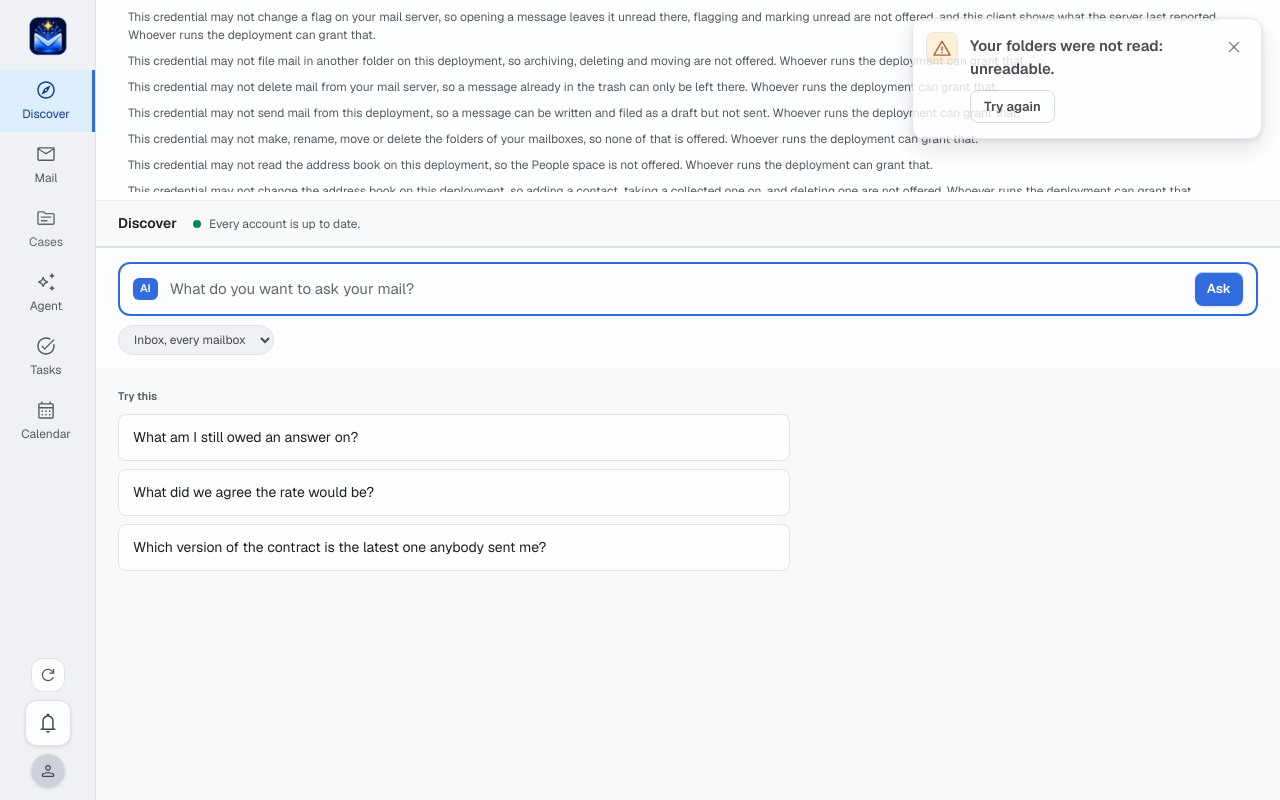
Scenario: App › draws the field under an open message only where the deployment answers that it drafts: true
This screenshot has width=1280, height=800.
Expected: the heading "Every account is up to date." is shown, top-left (193, 214), bottom-right (360, 232)
Click the link "Mail" at (46, 164), box top-left (34, 143), bottom-right (57, 186)
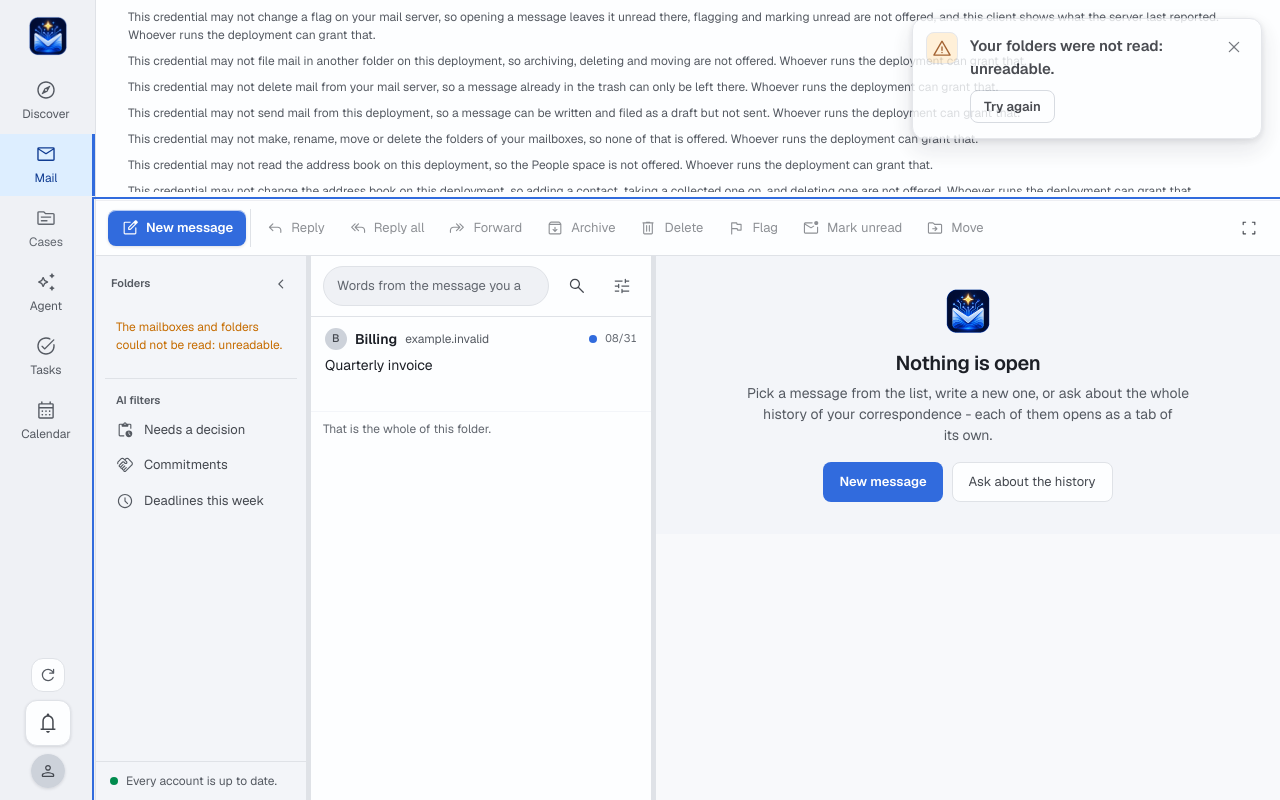
Expected: the element named "Mail" is shown
Press the mouse on the option "B Billing example.invalid 08/31 Quarterly invoice" at (481, 364), box top-left (311, 316), bottom-right (651, 412)
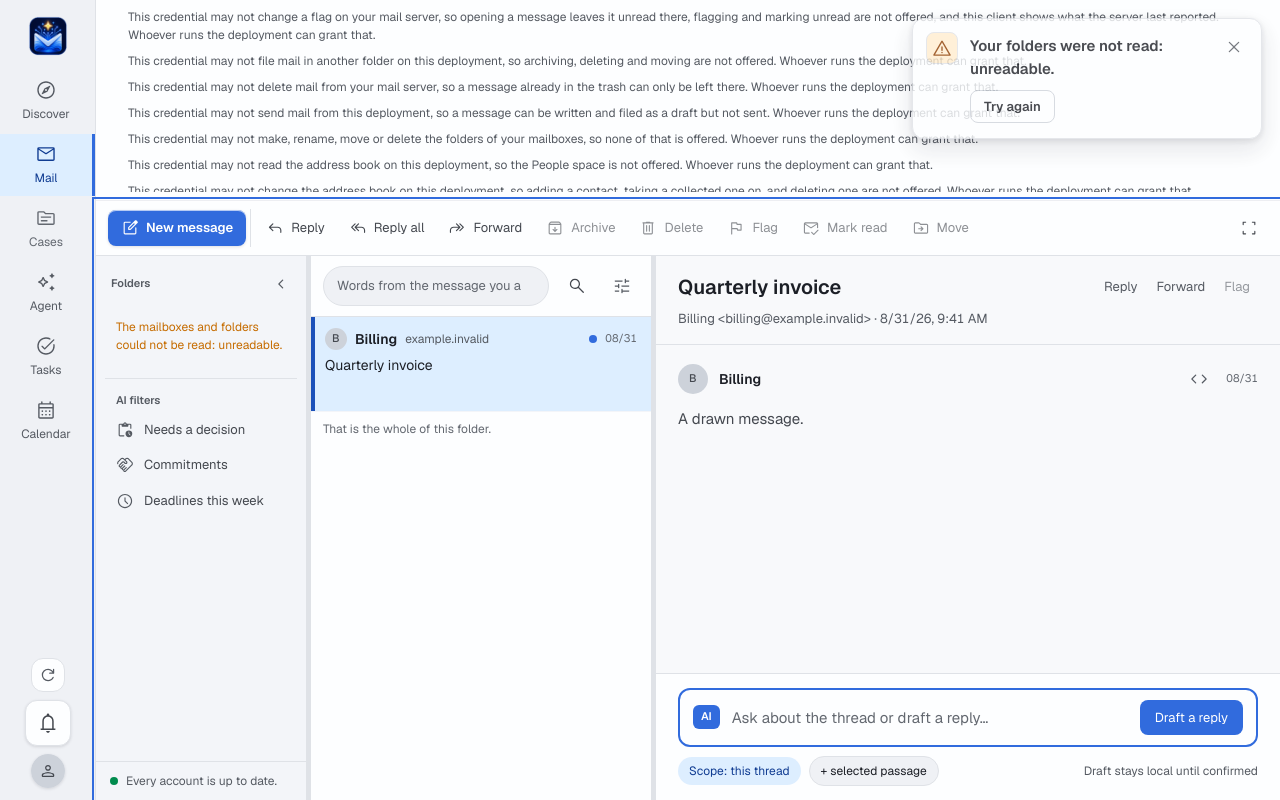
Expected: the search field labelled "Ask your mail" is not shown
Expected: the text "A drawn message." is shown, top-left (678, 409), bottom-right (803, 428)
Expected: the form named "Ask about this correspondence" is shown, top-left (656, 672), bottom-right (1279, 799)
